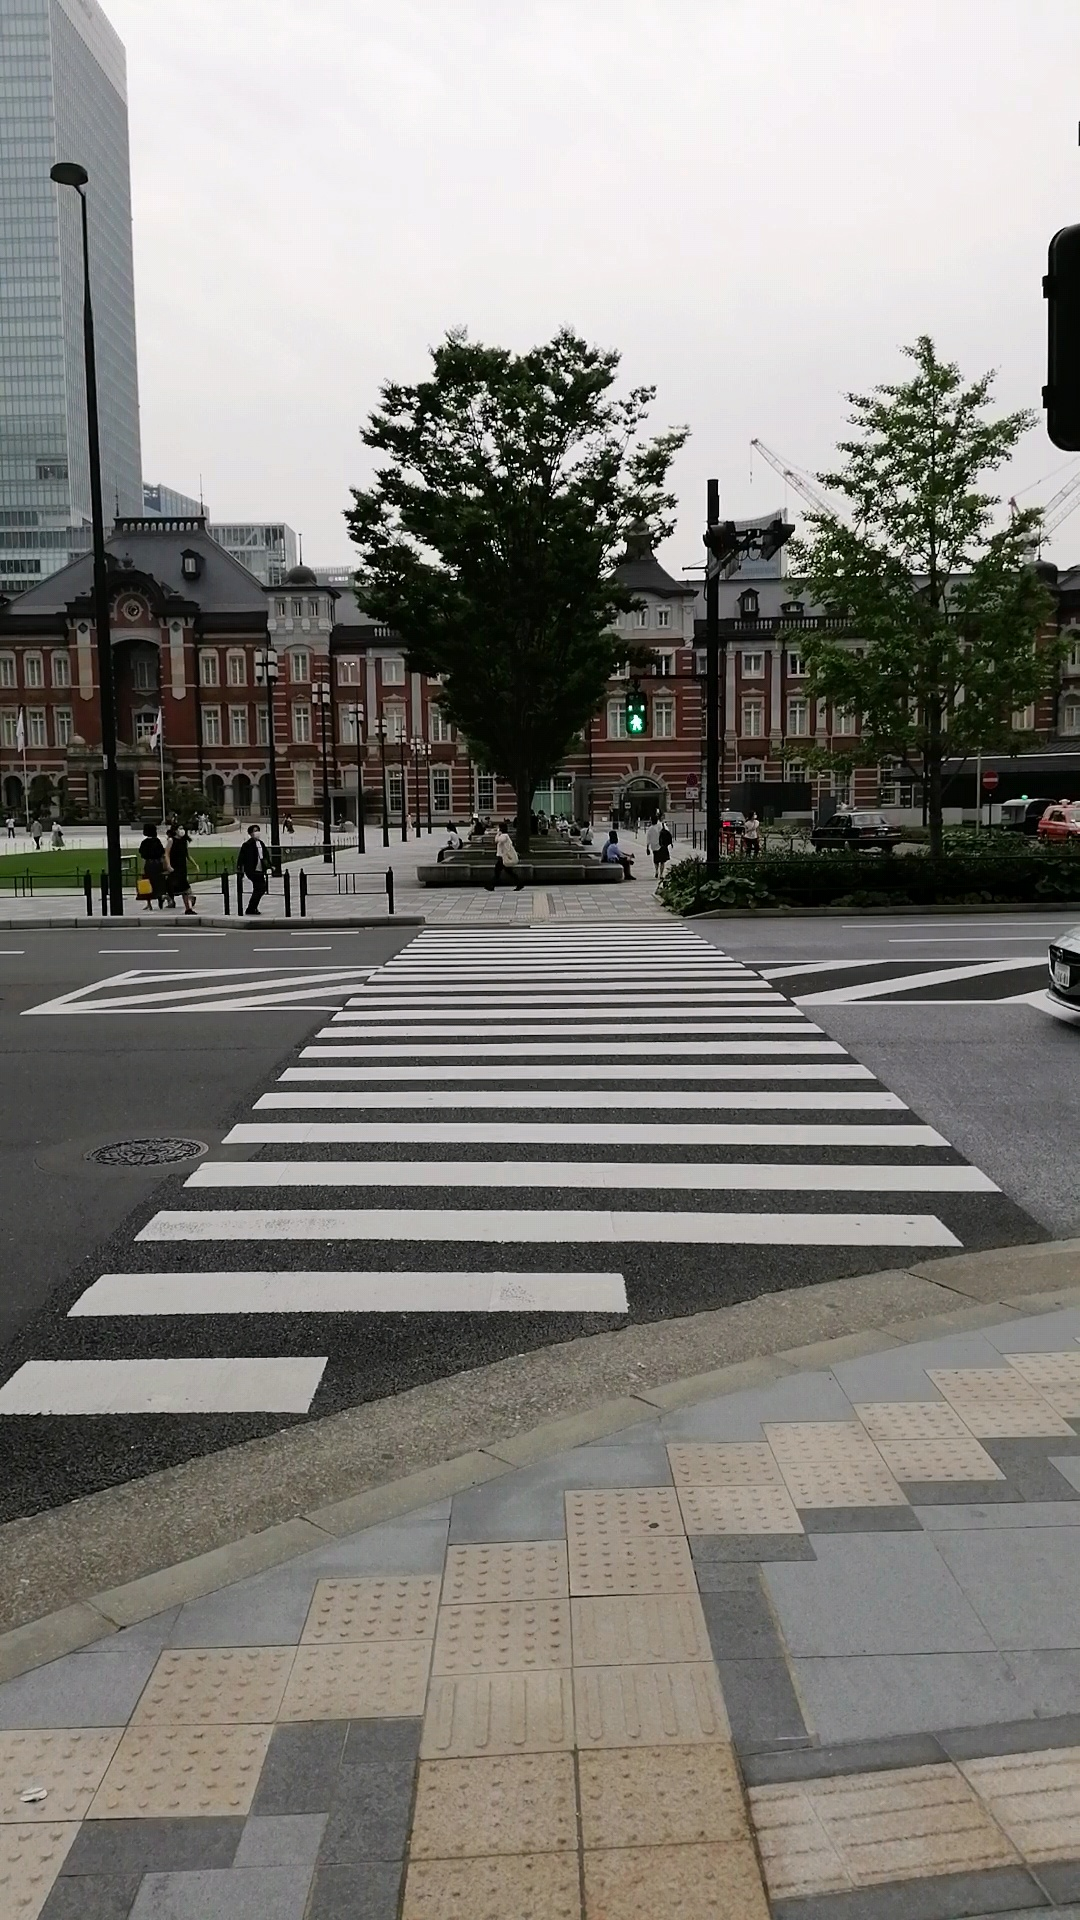green: (622, 690, 651, 737)
